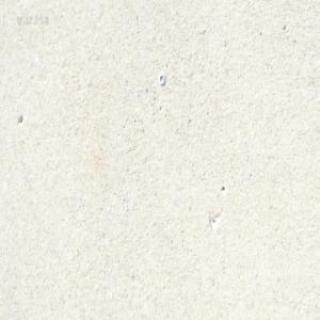Washertrack_idkeyframe: (158, 72, 165, 86)
